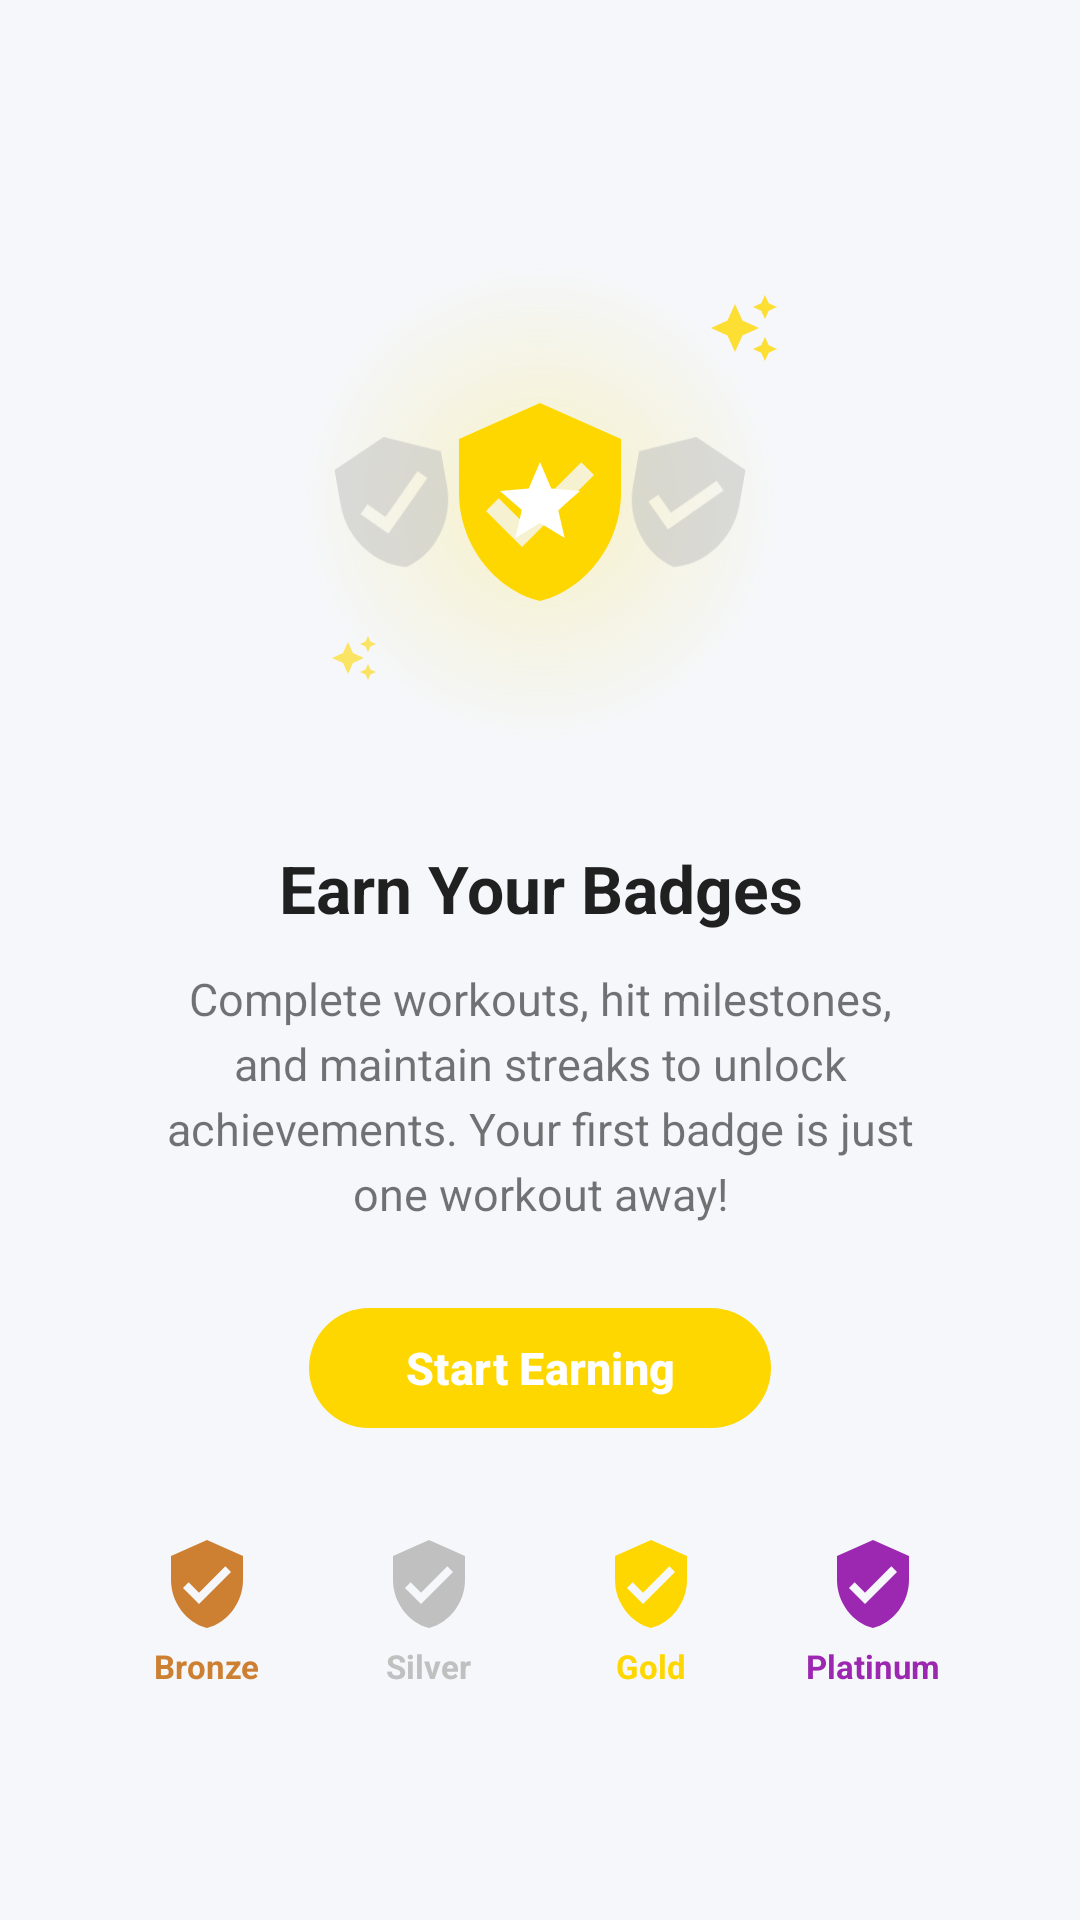

Screen size 1080 x 1920. Icon name, then its box in pixels as bbox(x1, y1, x2, y2):
sparkle: bbox(711, 295, 777, 361), bbox(332, 636, 376, 680)
